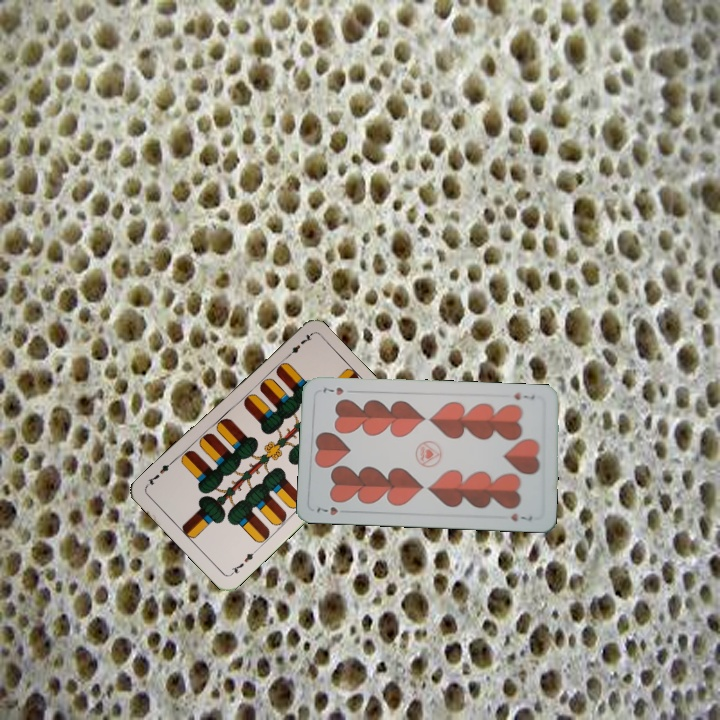E7: (280, 330, 314, 362), (227, 546, 259, 578)
H7: (313, 503, 352, 518), (510, 389, 537, 403)
